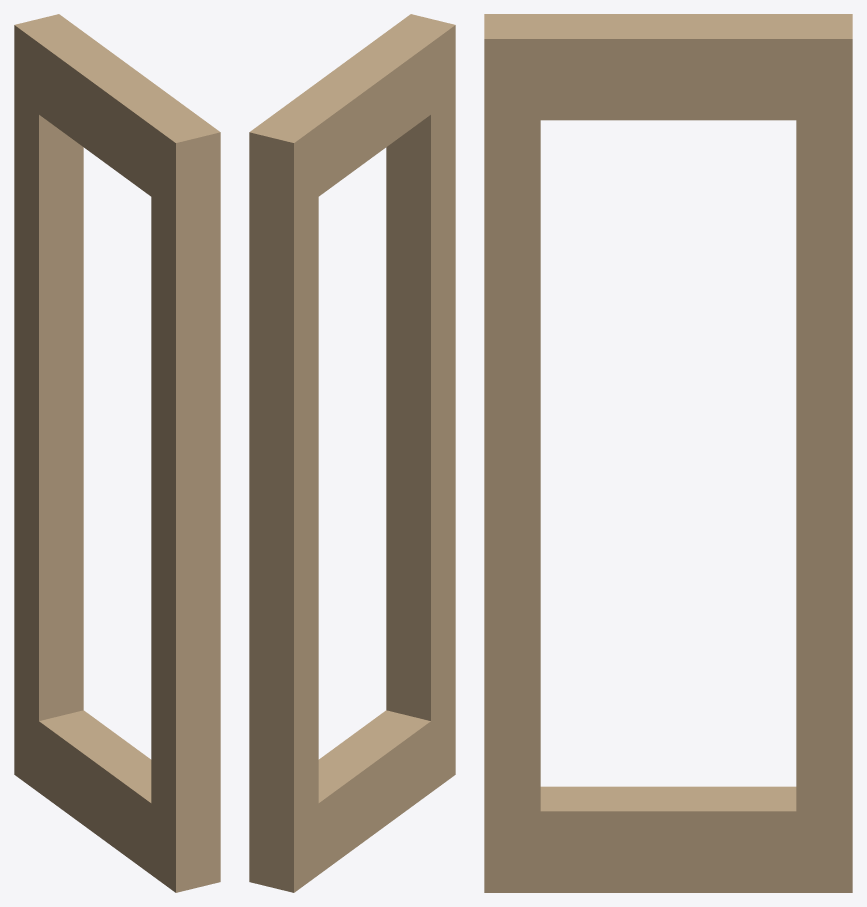
The model's file is Building Frame 8.fbx.
3 views of the same model, side by side, from view 1: azimuth 30°, elevation 25°; view 2: azimuth 150°, elevation 25°; view 3: azimuth 270°, elevation 25° (orthographic). The views are drawn at different scales.
Visible parts, largest first — view 1: Building Frame 8; view 2: Building Frame 8; view 3: Building Frame 8.
Boxes of the visible parts, <box> form: Building Frame 8: <box>14,14,220,892</box>; Building Frame 8: <box>249,14,455,892</box>; Building Frame 8: <box>484,14,852,892</box>.
Size of the model in its own units: 0.05 by 0.8 by 0.3125.
